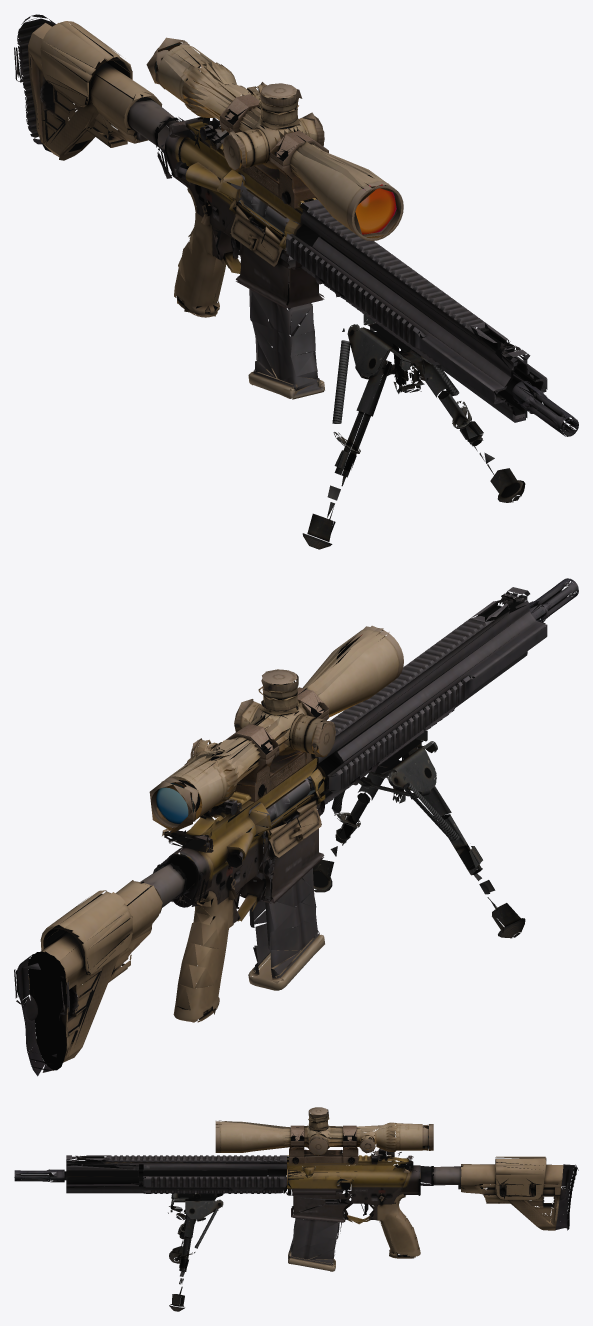
Rendered from Sniper_G28.fbx.
3 renders of one model, top to bottom at view 1: azimuth 30°, elevation 25°; view 2: azimuth 150°, elevation 25°; view 3: azimuth 270°, elevation 25°, orthographic. The views are drawn at different scales.
Parts seen in each view (by area): view 1: GunMesh; view 2: GunMesh; view 3: GunMesh.
Part boxes in pixels (x1=…): GunMesh: x1=14, y1=14, x2=578, y2=549; GunMesh: x1=14, y1=578, x2=578, y2=1076; GunMesh: x1=14, y1=1107, x2=578, y2=1311.
Bounding box in the file's own units: 0.2529 × 0.3714 × 1.08.
1 material, 1 textured.
